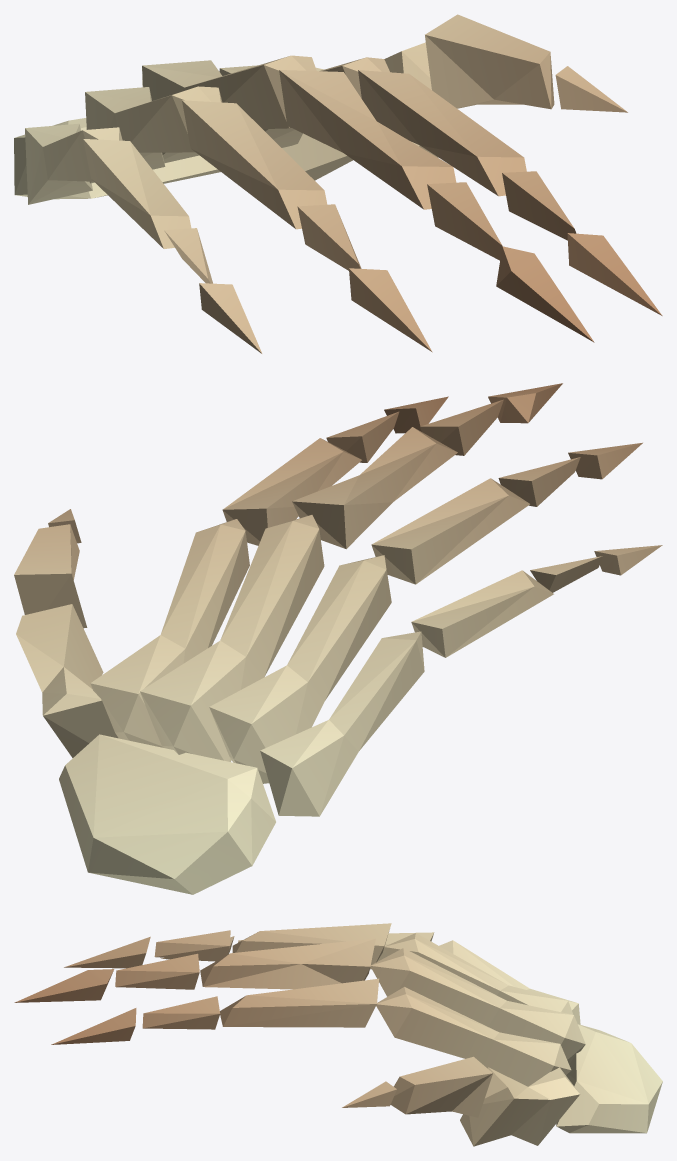
The model's file is righthandbones.fbx.
3 views of the same model, one above another, from view 1: azimuth 30°, elevation 25°; view 2: azimuth 150°, elevation 25°; view 3: azimuth 270°, elevation 25° (orthographic). The views are drawn at different scales.
Parts seen in each view (by area): view 1: RightHandBones; view 2: RightHandBones; view 3: RightHandBones.
Part boxes in pixels (box(x1,y1,x2,y2)): RightHandBones: box(14, 14, 662, 353); RightHandBones: box(14, 383, 662, 894); RightHandBones: box(14, 923, 662, 1146).
Bounding box in the file's own units: 13.67 × 6.74 × 22.98.
